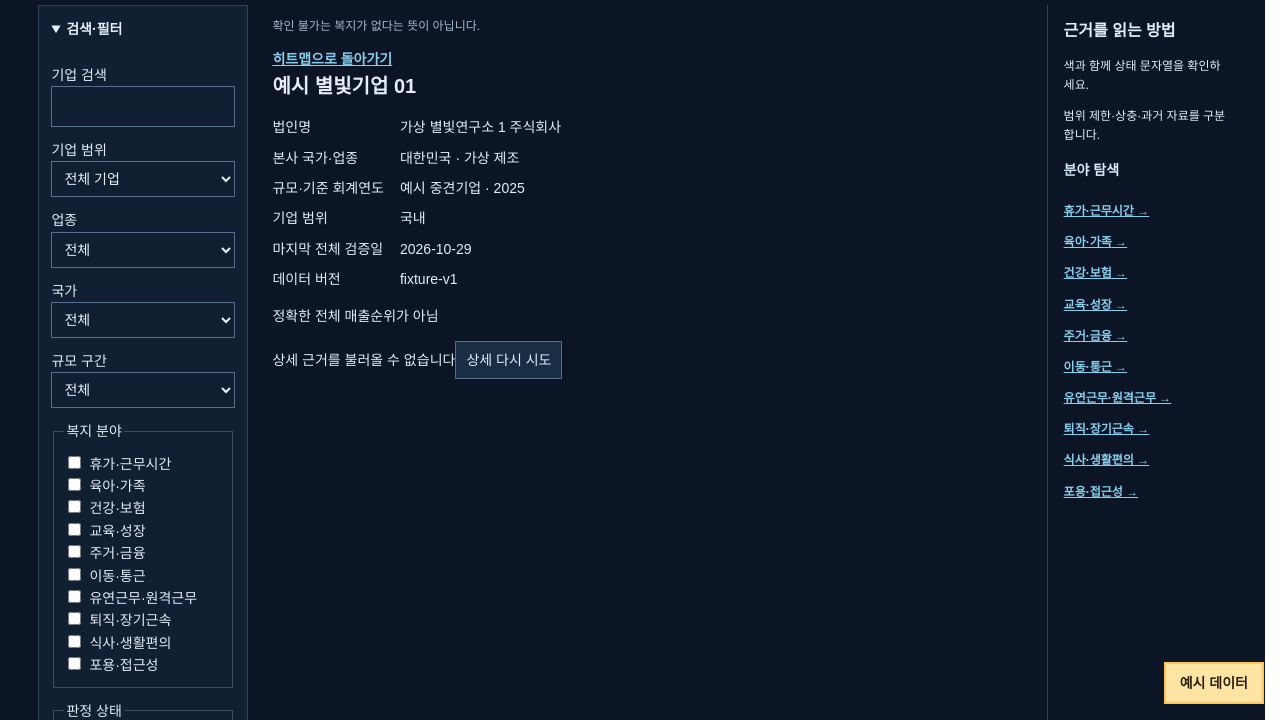
Test case: keeps index on detail failure and retries
This screenshot has width=1280, height=720.
(page scrolled)
expect the message shows "상세 근거를 불러올 수 없습니다": met, box x1=272 y1=352 x2=455 y2=368
Click the button "상세 다시 시도" at [509, 360], box x1=455 y1=341 x2=562 y2=379
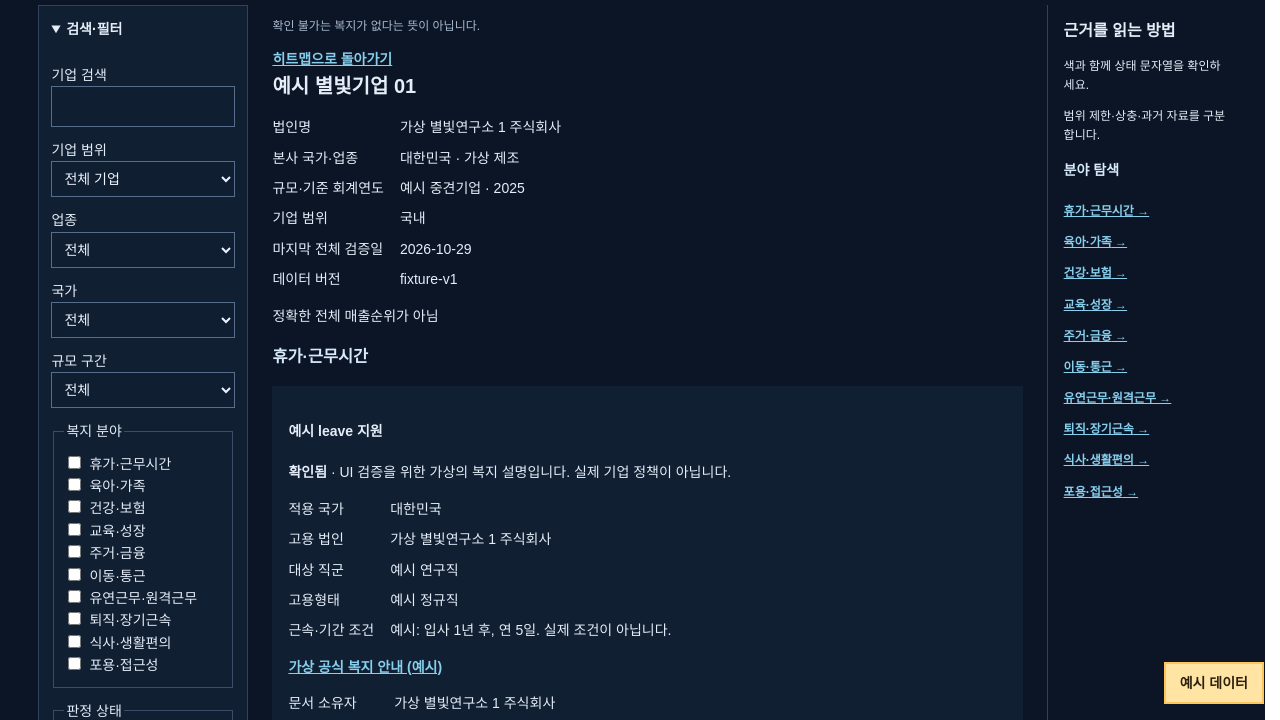
expect the heading "예시 leave 지원" is shown: met, box x1=288 y1=423 x2=383 y2=439
